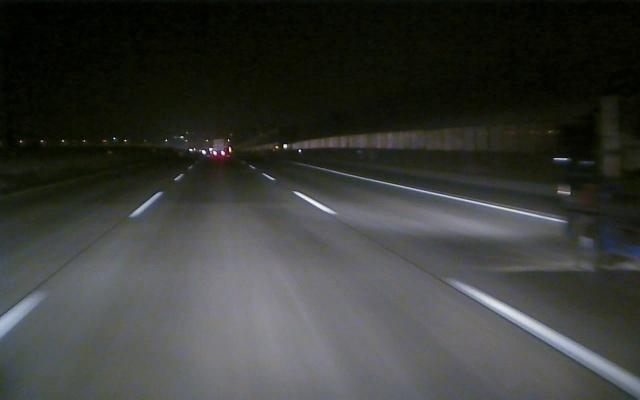lane: (412, 262, 637, 396), (2, 186, 164, 338), (264, 176, 403, 257), (361, 176, 566, 224)
